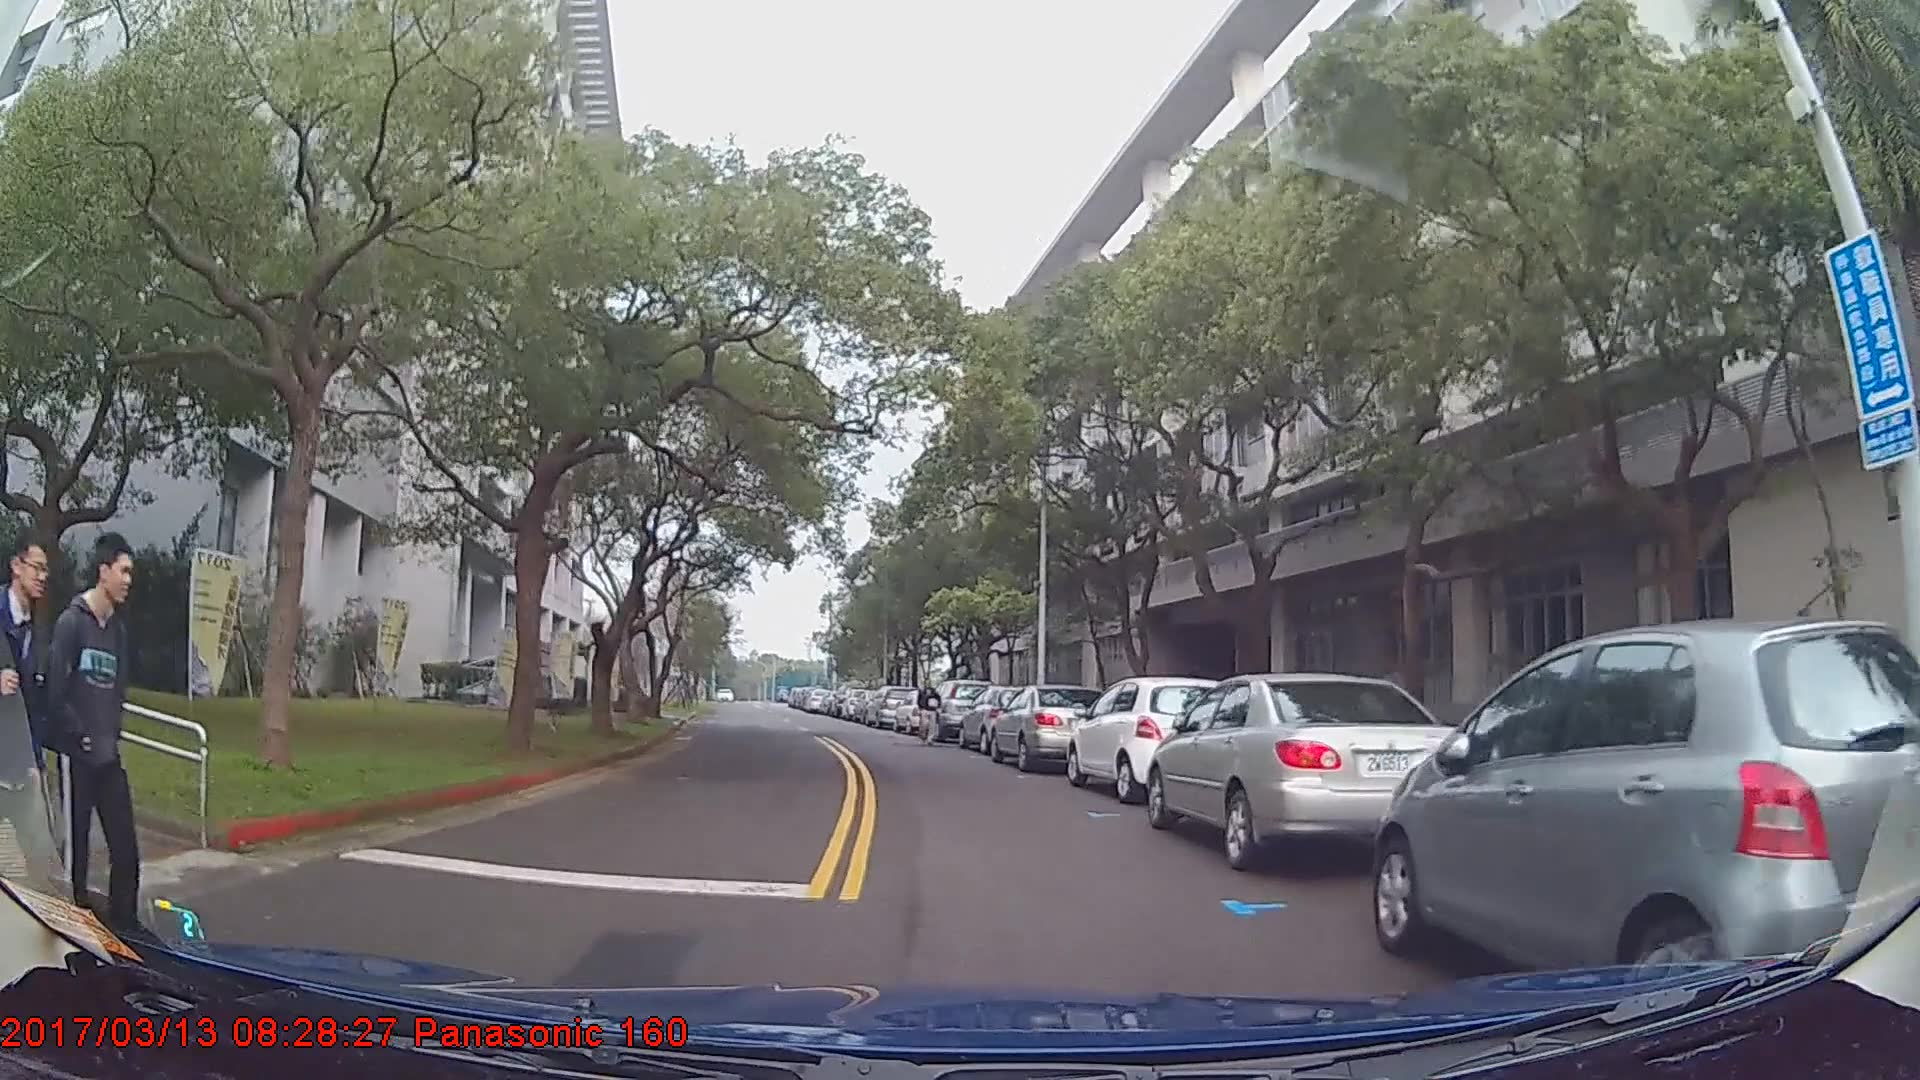pedestrian: (34, 529, 141, 988), (915, 675, 942, 747)
vehicle: (1372, 614, 1920, 1010), (1148, 669, 1476, 873), (1067, 673, 1236, 805), (989, 682, 1104, 772), (956, 683, 1054, 756), (925, 678, 992, 744), (864, 683, 914, 728)
